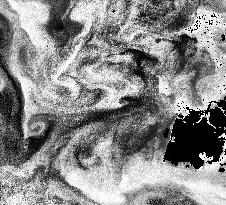CE: (21, 109, 58, 139)
